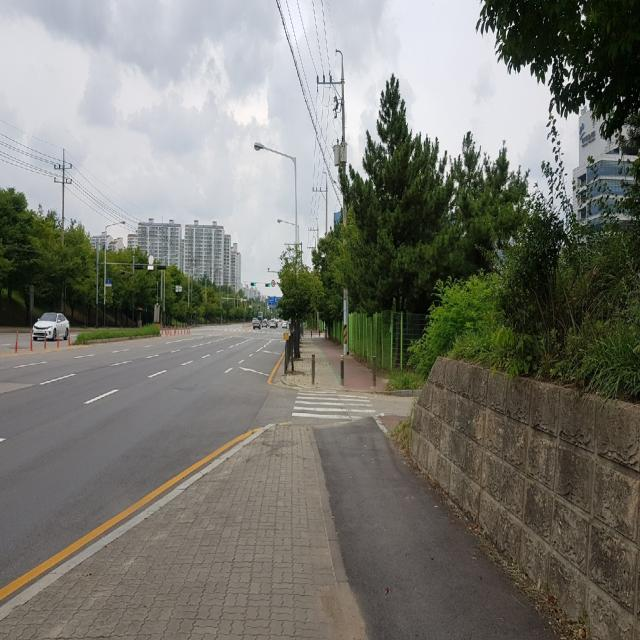횡단보도: (291, 389, 376, 420)
